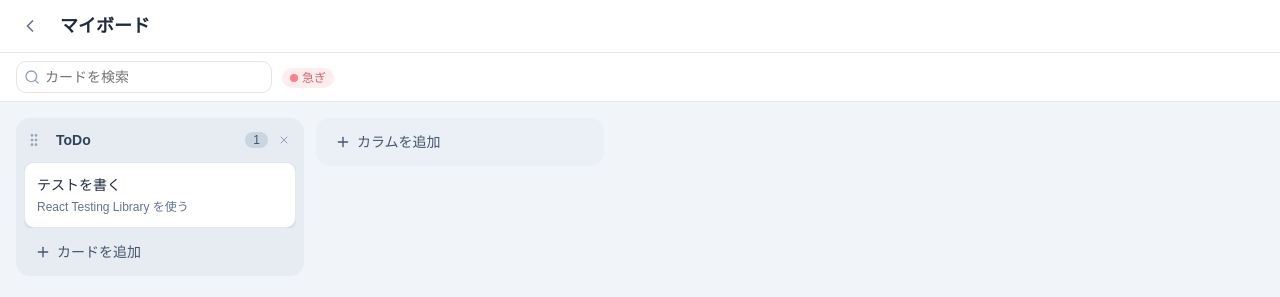
Scenario: カラム › 名前をクリックして変えられる
The image size is (1280, 297).
Expected: the heading "マイボード" is shown, [52,8,1264,44]
Click the button "ToDo": (145, 140) [48,126,241,154]
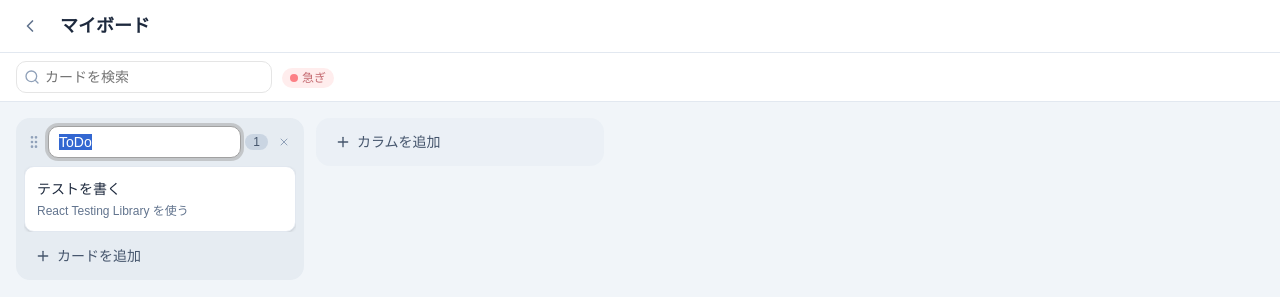
Replace the text in the field named "カラム名" with "やること": (145, 142) [48,126,241,158]
Then press Enter
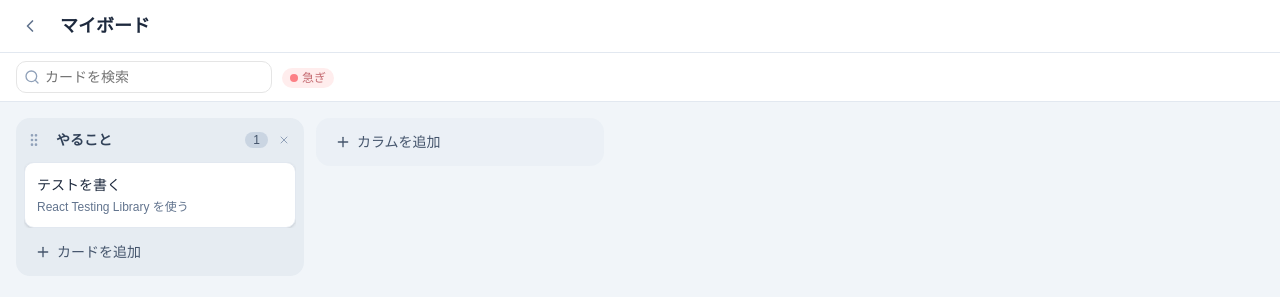
Expected: the button "やること" is shown, [48,126,241,154]
